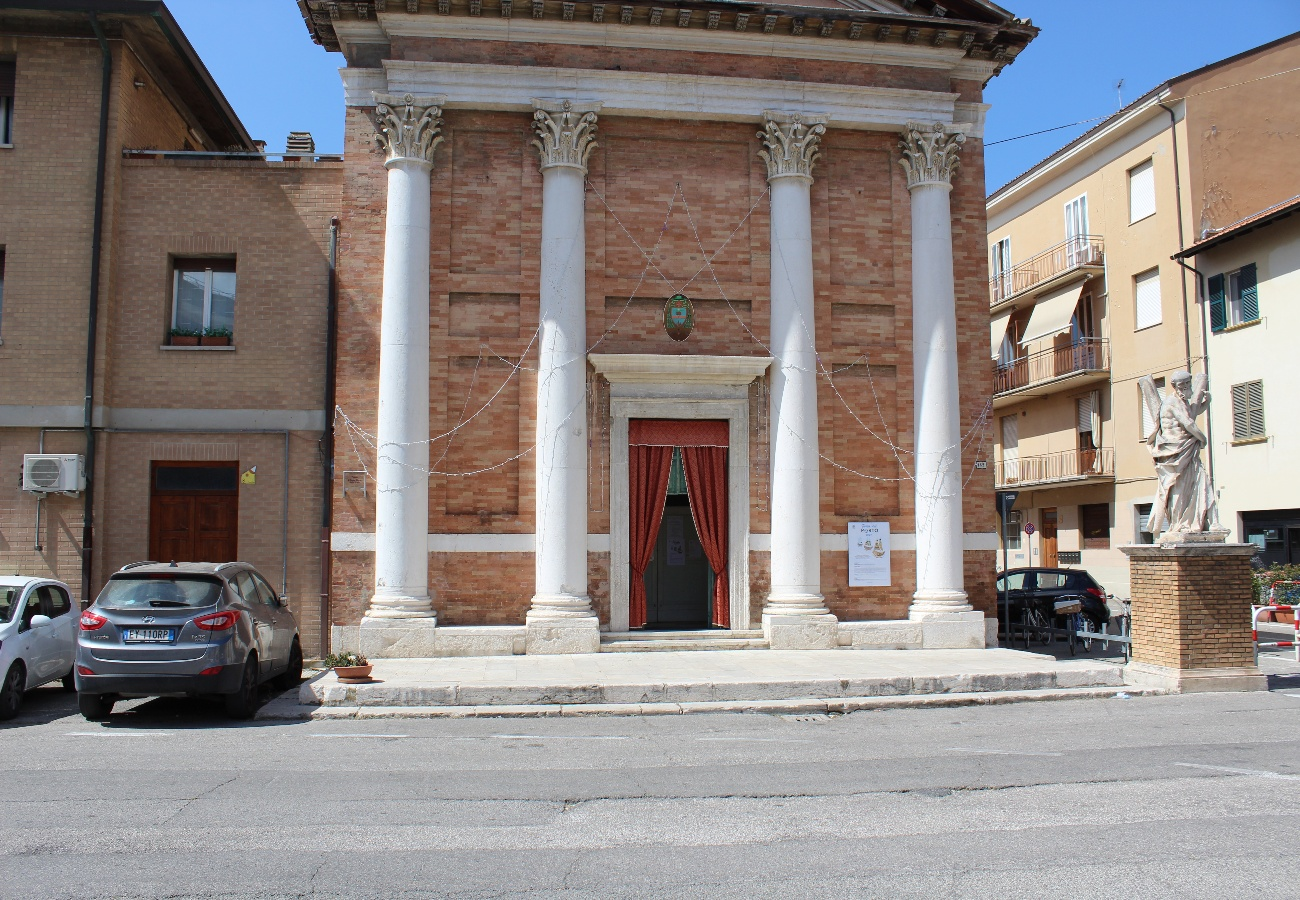Parrocchia Santa Maria: (299, 6, 1045, 693)
